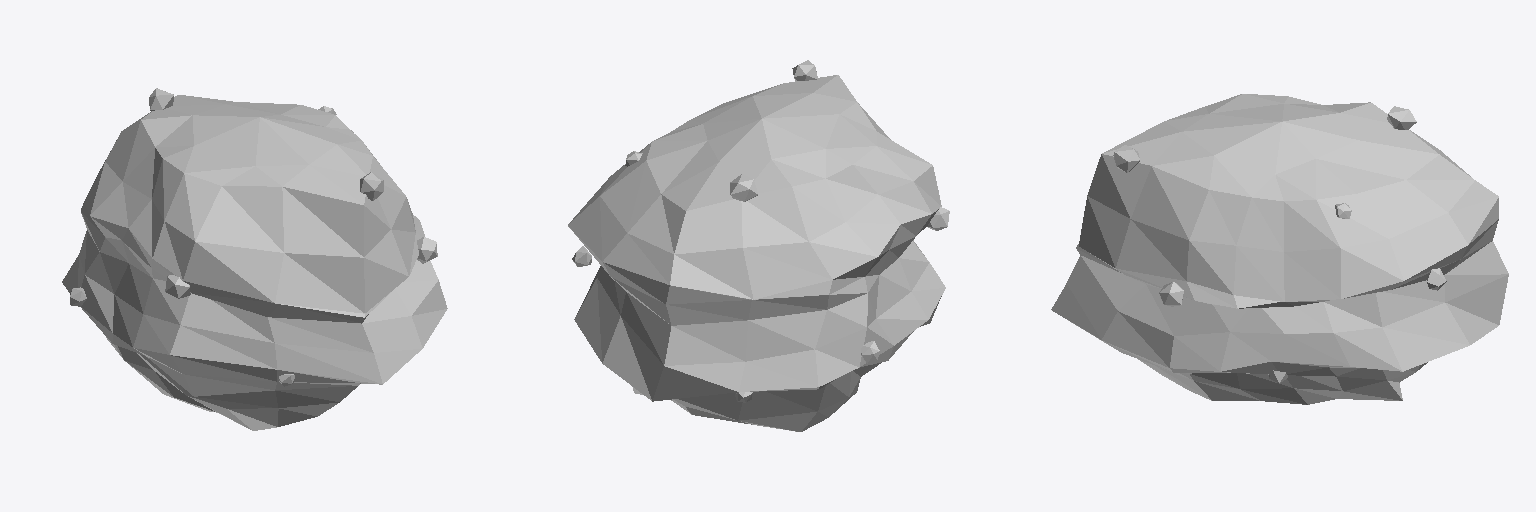
Rendered from bush_berries_2.obj.
3 views of the same model, side by side, from view 1: azimuth 30°, elevation 25°; view 2: azimuth 150°, elevation 25°; view 3: azimuth 270°, elevation 25° (orthographic).
Visible parts, largest first — view 1: bush_berries_2; view 2: bush_berries_2; view 3: bush_berries_2.
Part boxes in pixels (x1,y1,x2,y2): bush_berries_2: (62,88,447,430); bush_berries_2: (568,60,949,431); bush_berries_2: (1051,94,1508,404).
Size of the model in its own units: 1.04 by 0.9099 by 1.38.